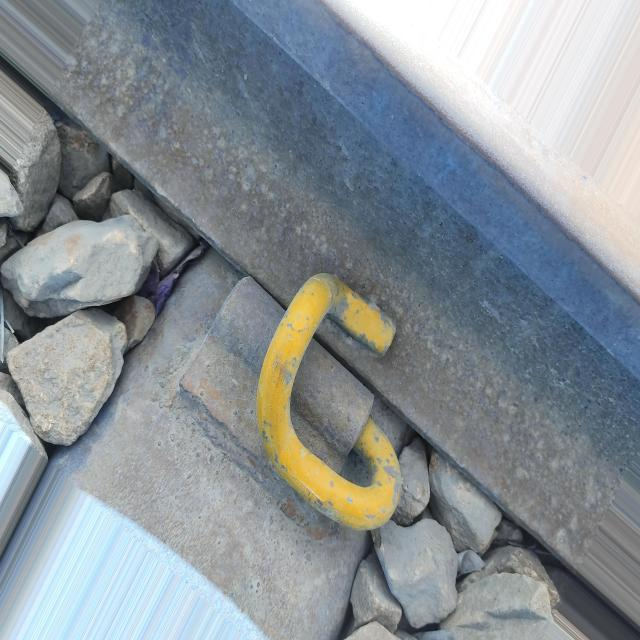Good Fasteners: (180, 273, 401, 530)
